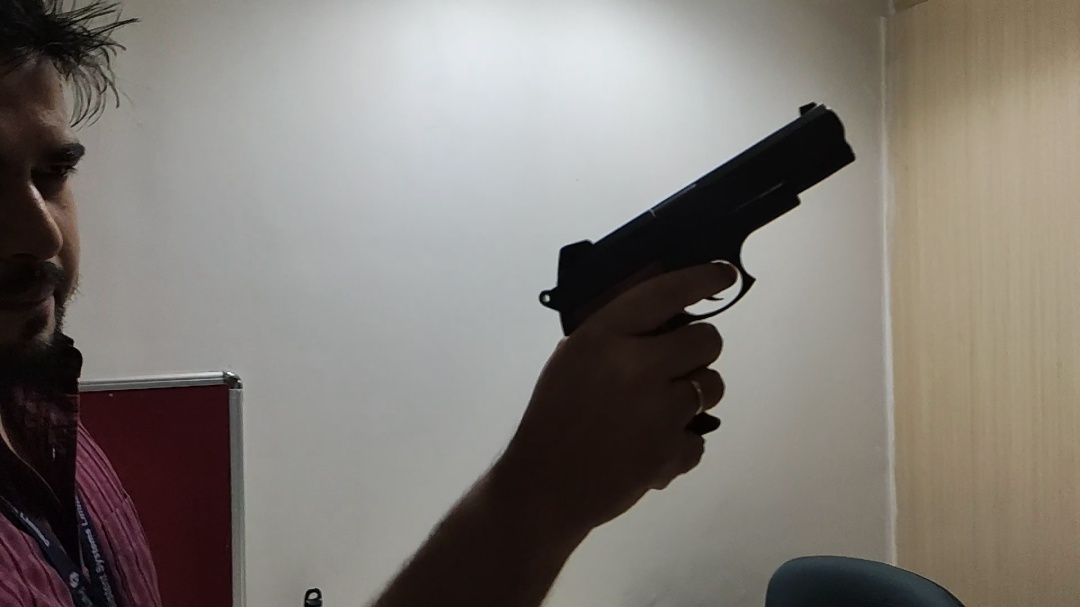gun: (535, 99, 868, 441)
